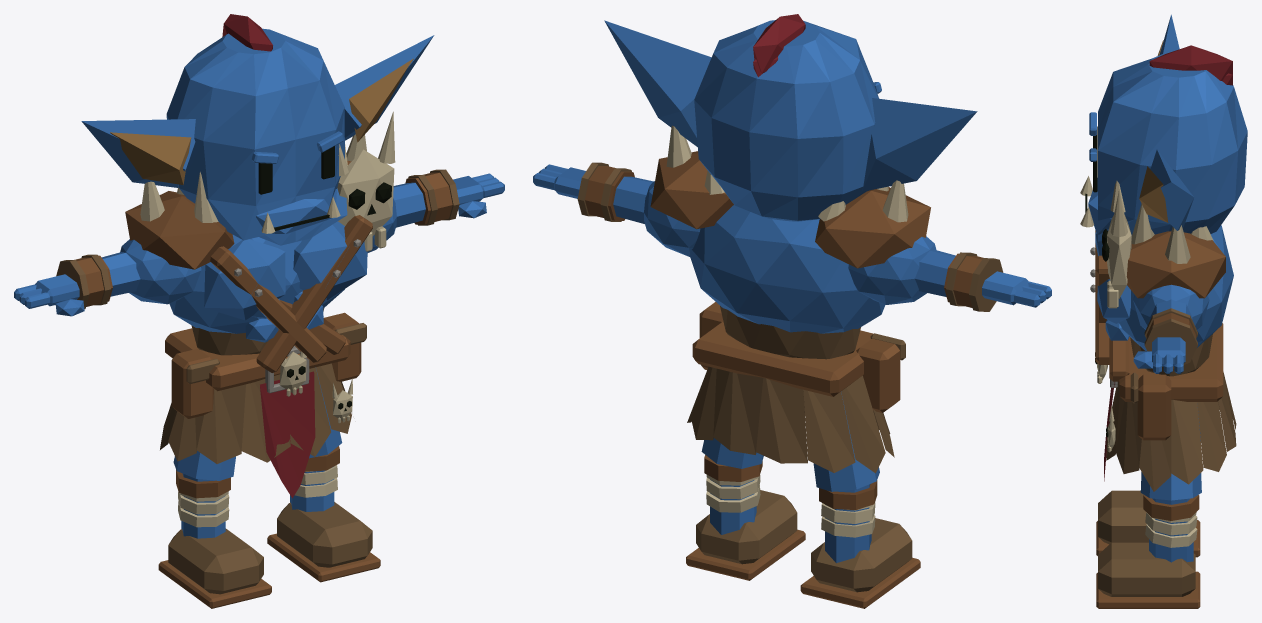
The model's file is orc_commander.glb.
The picture shows the model from 3 angles, left to right: view 1: azimuth 30°, elevation 25°; view 2: azimuth 150°, elevation 25°; view 3: azimuth 270°, elevation 25°; orthographic projection. The views are drawn at different scales.
Parts seen in each view (by area): view 1: Body, Lower leg, Lower leg.001, Forearm, Forearm.001, Upper arm, Green thigh; view 2: Body, Lower leg, Lower leg.001, Forearm, Forearm.001, Upper arm, Upper arm.001, Green thigh, Green thigh.001; view 3: Body, Lower leg.001, Forearm.001, Lower leg, Upper arm.001, Green thigh.001.
Boxes of the visible parts, x1,y1,x2,y2 form: Body: (81, 14, 434, 498); Lower leg: (158, 469, 271, 608); Lower leg.001: (267, 446, 380, 582); Forearm: (14, 252, 140, 316); Forearm.001: (393, 169, 504, 227); Upper arm: (120, 239, 201, 304); Green thigh: (173, 451, 235, 480); Body: (604, 14, 977, 473); Lower leg: (800, 480, 920, 608); Lower leg.001: (686, 455, 805, 580); Forearm: (915, 250, 1051, 311); Forearm.001: (533, 162, 653, 223); Upper arm: (848, 236, 936, 304); Upper arm.001: (644, 181, 700, 256); Green thigh: (813, 391, 879, 491); Green thigh.001: (701, 438, 763, 468); Body: (1080, 14, 1247, 491); Lower leg.001: (1096, 495, 1200, 608); Forearm.001: (1133, 299, 1197, 373); Lower leg: (1096, 490, 1200, 557); Upper arm.001: (1133, 284, 1209, 329); Green thigh.001: (1140, 411, 1201, 500).
Size of the model in its own units: 1.76 by 1.89 by 0.5479.
